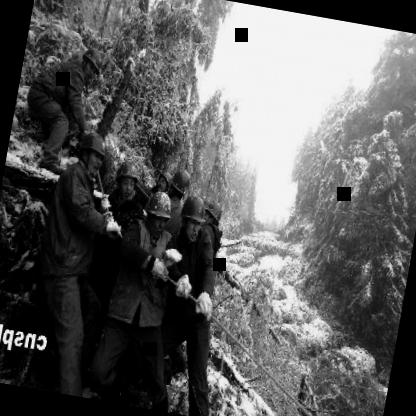helmet: (174, 190, 208, 247), (72, 127, 110, 174), (110, 158, 143, 206), (142, 188, 174, 236), (166, 166, 194, 206), (78, 41, 106, 80), (201, 198, 223, 230)
